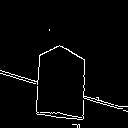cube: (30, 39, 98, 124)
